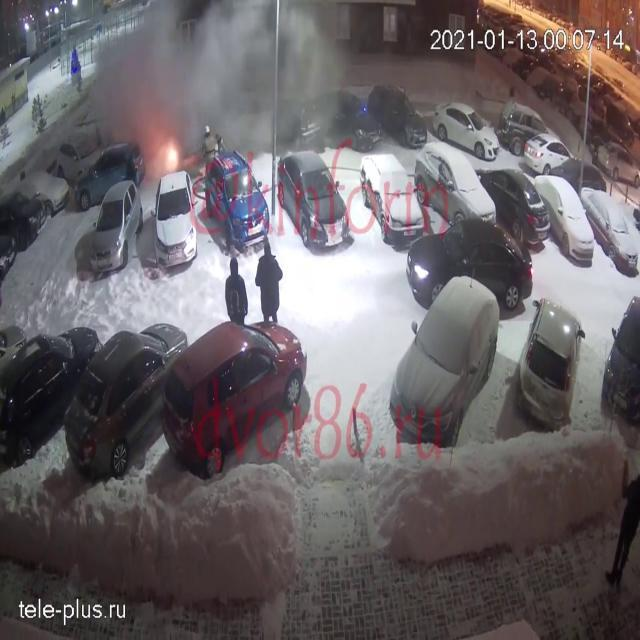Fire: (164, 136, 180, 173)
Smoke: (90, 0, 342, 154)
